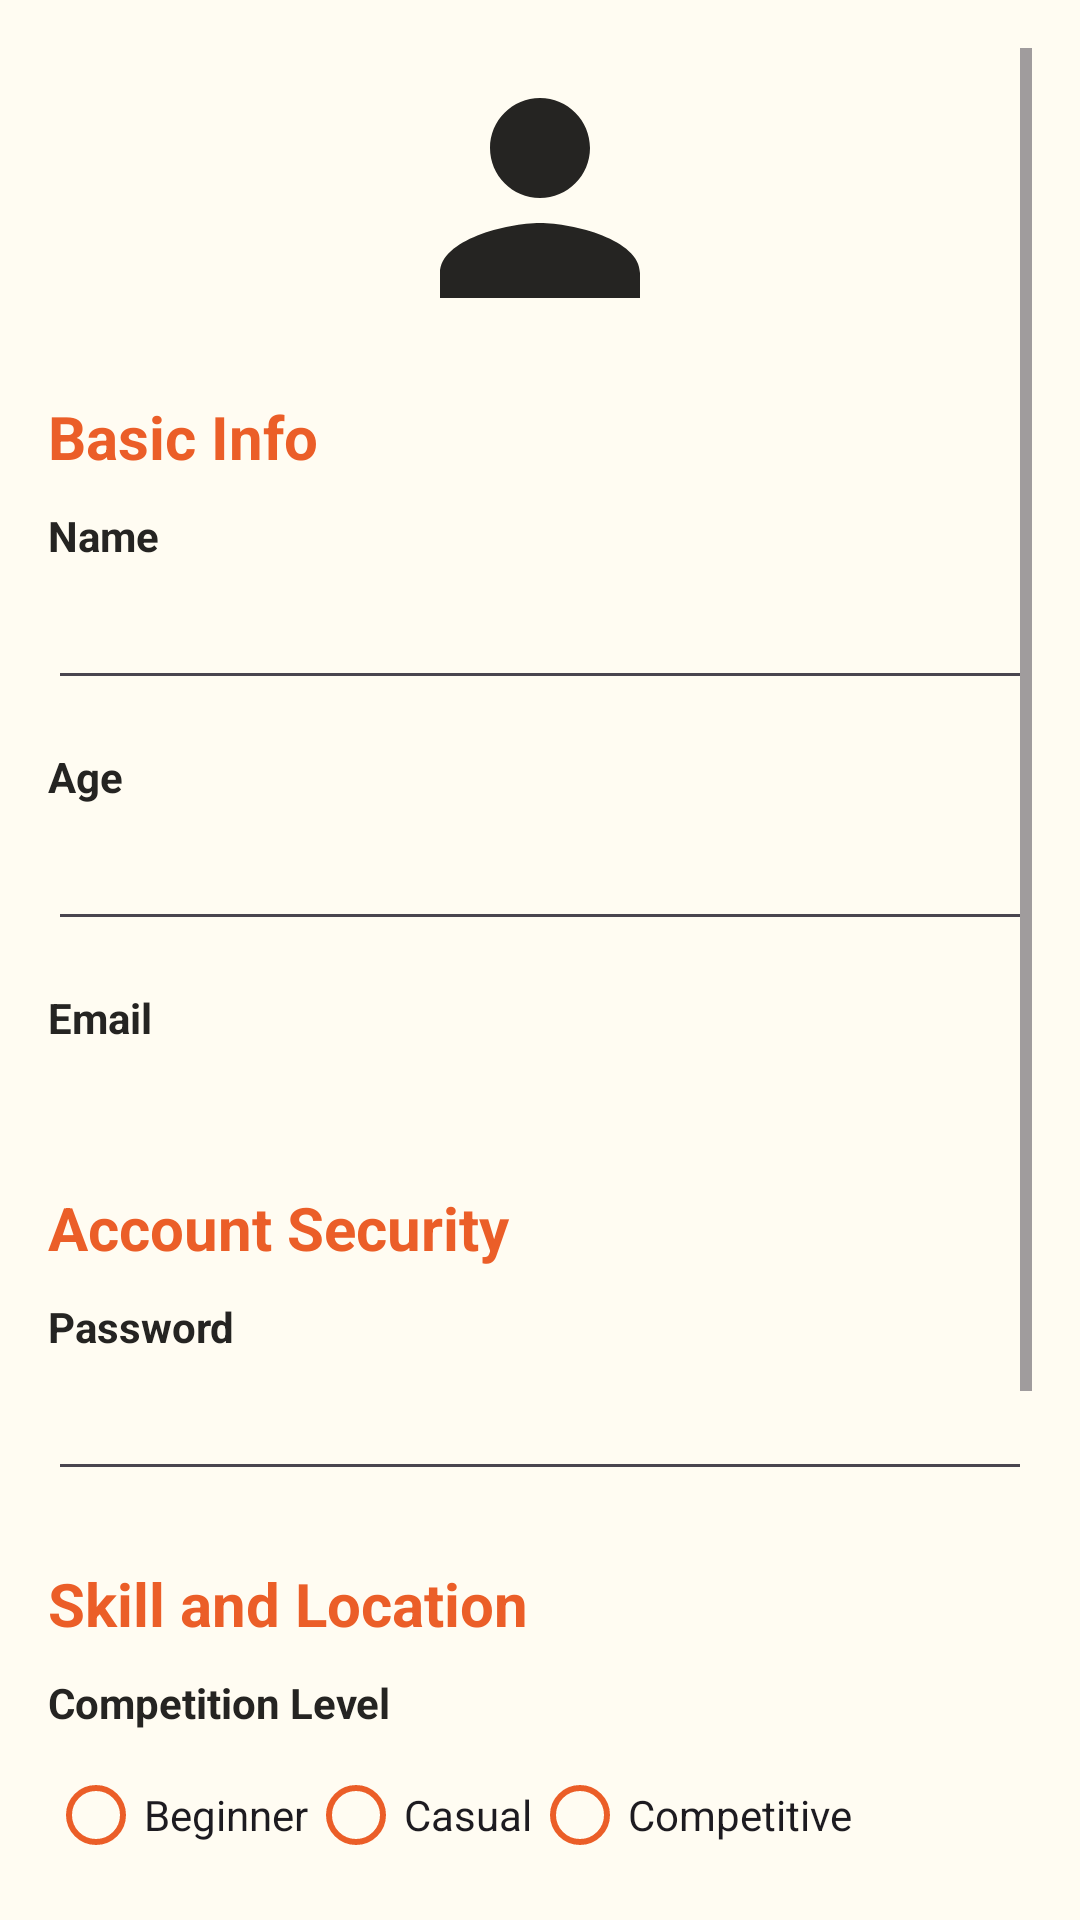

Screen size 1080 x 1920. Icon name, then its center in pixels as point (x, y):
Profile Picture: point (540, 198)
